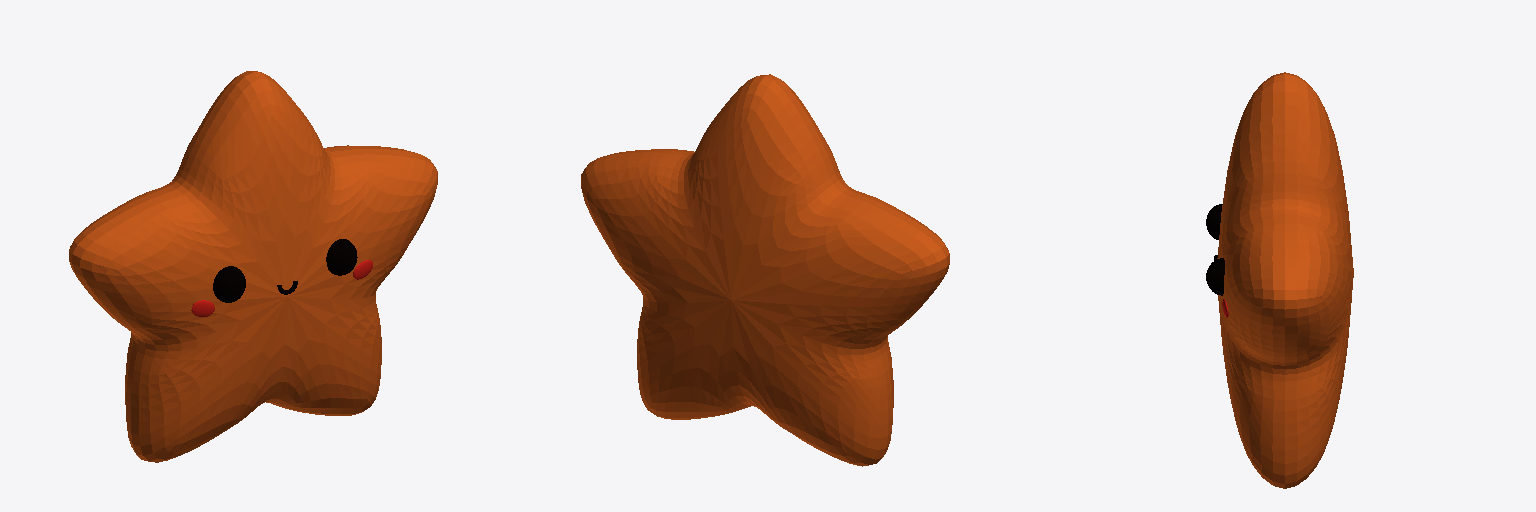
File: little_star.obj
The picture shows the model from 3 angles: view 1: azimuth 30°, elevation 25°; view 2: azimuth 150°, elevation 25°; view 3: azimuth 270°, elevation 25°; orthographic projection.
Visible parts, largest first — view 1: obj3, obj4, obj1; view 2: obj3; view 3: obj3, obj4.
Boxes of the visible parts, x1=… form: obj3: x1=69, y1=71, x2=437, y2=462; obj4: x1=213, y1=239, x2=357, y2=302; obj1: x1=191, y1=260, x2=372, y2=316; obj3: x1=581, y1=74, x2=949, y2=466; obj3: x1=1217, y1=72, x2=1353, y2=488; obj4: x1=1206, y1=204, x2=1224, y2=295.
Bounding box in the file's own units: 1.42 × 1.36 × 0.5018.